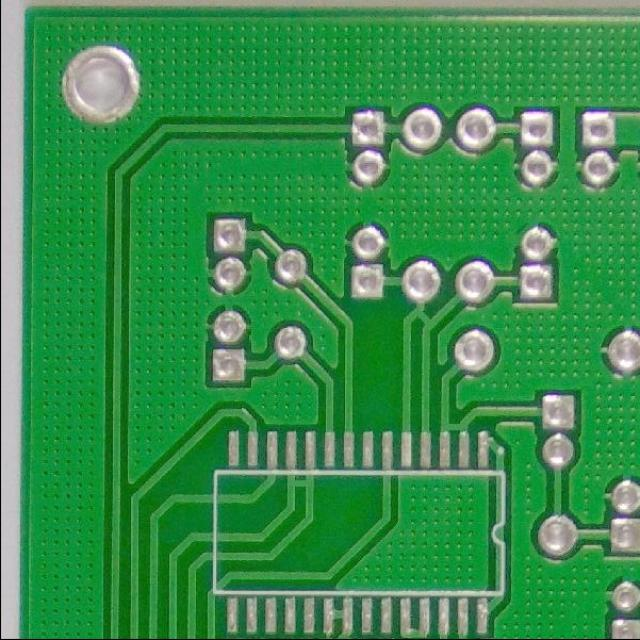Short_Circuit: (434, 414, 473, 439), (410, 302, 438, 332), (284, 473, 316, 494)
